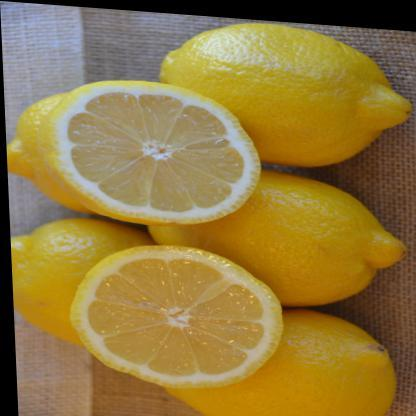lemon: (6, 79, 261, 225), (147, 168, 409, 307), (160, 23, 412, 167), (69, 244, 283, 390), (165, 308, 397, 416), (11, 217, 158, 345)
